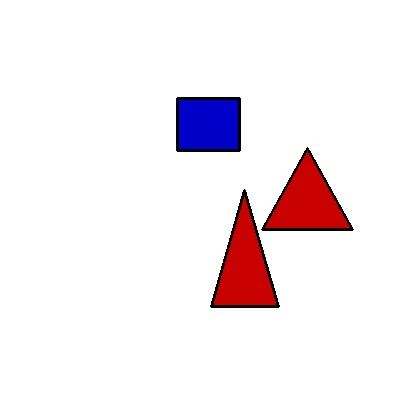rectangle: (177, 98, 239, 150)
triangle: (211, 190, 278, 306), (262, 148, 352, 229)
